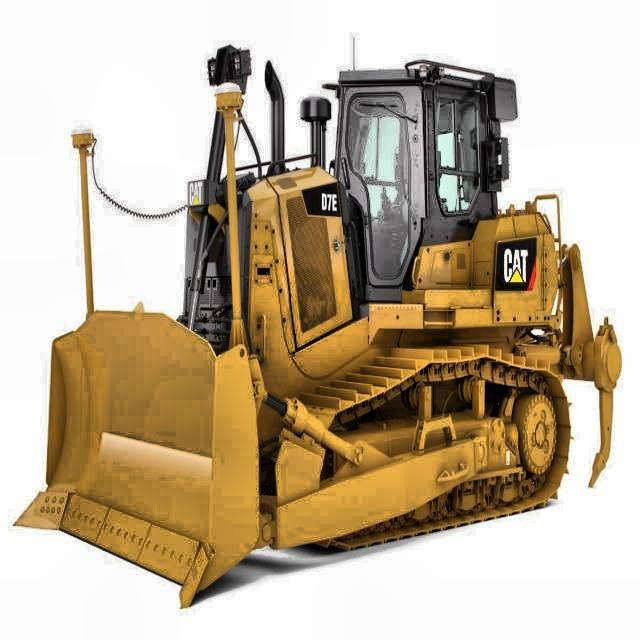bull_dozer/loader/grader: (32, 30, 640, 602)
